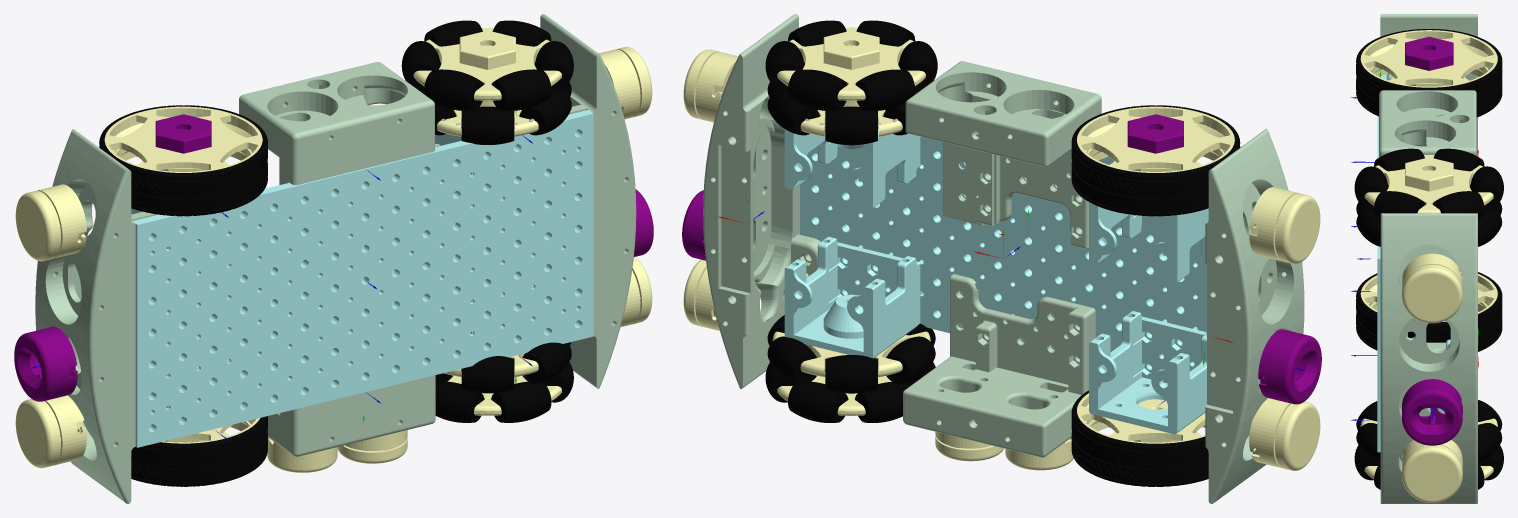
The model's file is roboteil_4.glb.
3 views of the same model, side by side, from view 1: azimuth 30°, elevation 25°; view 2: azimuth 150°, elevation 25°; view 3: azimuth 270°, elevation 25° (orthographic). The views are drawn at different scales.
Visible parts, largest first — view 1: CenterPlate Alu, sbFront (×2), sb_center_cont, Tire (×2), Top (×7), Base (×6), sbCenter, Roller_copy4 (×4), rim-outer, Roller_copy3 (×3), Wheel-Hub-Cap (×2), Roller_copy5 (×2) (+5 smaller); view 2: sbFront (×2), CenterPlate Alu, HolderBase (×4), sbCenter, sb_center_cont, Tire (×2), Top (×7), Base (×6), Roller_copy1 (×4), Roller_copy6 (×4), rim-outer, Wheel-Hub-Cap (×2) (+8 smaller); view 3: sbFront (×2), Top (×3), sb_center_cont, Tire (×2), rim-outer, Wheel-Hub-Cap (×2), Roller_copy4 (×4), Roller_copy1 (×3), Roller_copy6 (×3), Base (×3), rim_outer_b, Roller_copy3 (×2) (+5 smaller).
Boxes of the visible parts, <box> form: CenterPlate Alu: <box>132,110,593,447</box>; sbFront (×2): <box>35,14,636,503</box>; sb_center_cont: <box>239,62,440,261</box>; Tire (×2): <box>99,105,267,486</box>; Top (×7): <box>14,47,652,472</box>; Base (×6): <box>29,49,640,467</box>; sbCenter: <box>267,327,435,456</box>; Roller_copy4 (×4): <box>461,69,571,422</box>; rim-outer: <box>104,106,262,172</box>; Roller_copy3 (×3): <box>424,69,571,383</box>; Wheel-Hub-Cap (×2): <box>155,30,515,153</box>; Roller_copy5 (×2): <box>435,41,573,422</box>; sbFront (×2): <box>703,14,1304,503</box>; CenterPlate Alu: <box>800,136,1206,372</box>; HolderBase (×4): <box>784,129,1208,434</box>; sbCenter: <box>903,274,1095,457</box>; sb_center_cont: <box>905,61,1101,249</box>; Tire (×2): <box>1071,105,1240,486</box>; Top (×7): <box>683,49,1321,470</box>; Base (×6): <box>686,52,1306,468</box>; Roller_copy1 (×4): <box>767,69,877,422</box>; Roller_copy6 (×4): <box>765,41,909,422</box>; rim-outer: <box>1077,106,1234,172</box>; Wheel-Hub-Cap (×2): <box>823,30,1183,153</box>; sbFront (×2): <box>1380,14,1477,503</box>; Top (×3): <box>1402,264,1462,502</box>; sb_center_cont: <box>1379,90,1476,157</box>; Tire (×2): <box>1356,29,1502,351</box>; rim-outer: <box>1360,30,1497,87</box>; Wheel-Hub-Cap (×2): <box>1405,36,1453,191</box>; Roller_copy4 (×4): <box>1354,166,1387,480</box>; Roller_copy1 (×3): <box>1470,166,1503,480</box>; Roller_copy6 (×3): <box>1432,191,1502,430</box>; Base (×3): <box>1402,253,1462,467</box>; rim_outer_b: <box>1364,155,1493,213</box>; Roller_copy3 (×2): <box>1356,148,1424,462</box>.
Size of the model in its own units: 400 by 237 by 101.
